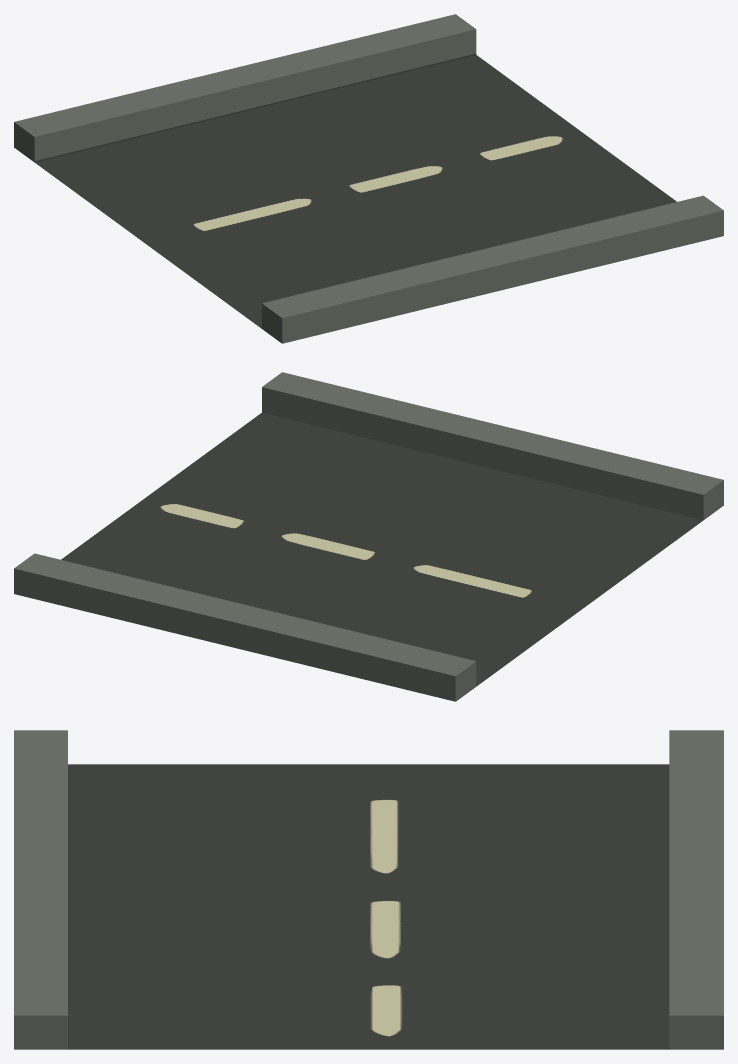
Rendered from Road_Straight.FBX.
The picture shows the model from 3 angles, top to bottom: view 1: azimuth 30°, elevation 25°; view 2: azimuth 150°, elevation 25°; view 3: azimuth 270°, elevation 25°; orthographic projection. The views are drawn at different scales.
Parts seen in each view (by area): view 1: Straight; view 2: Straight; view 3: Straight.
Part boxes in pixels (x1,y1,x2,y2): Straight: (14,14,723,343); Straight: (14,372,723,701); Straight: (14,730,723,1049).
Size of the model in its own units: 89.8 by 4.97 by 94.46.
1 material, 1 textured.
